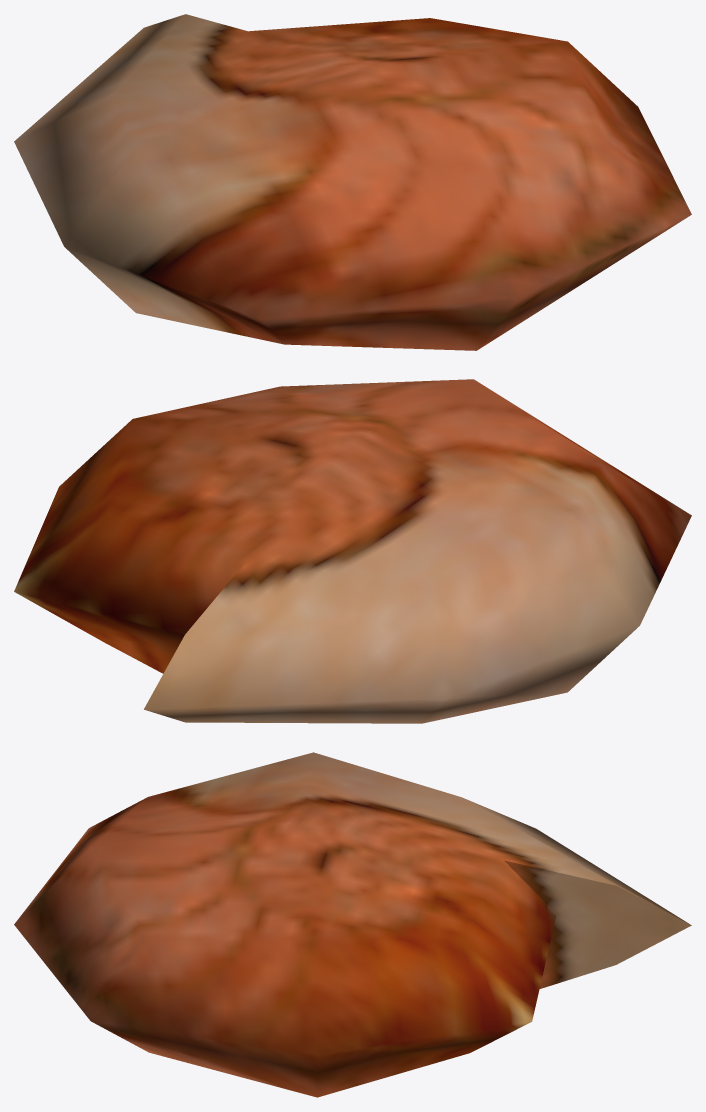
Rendered from Colony_Shell_Art.glb.
3 renders of one model, top to bottom at view 1: azimuth 30°, elevation 25°; view 2: azimuth 150°, elevation 25°; view 3: azimuth 270°, elevation 25°, orthographic. The views are drawn at different scales.
Visible parts, largest first — view 1: Colony_Shell_Art; view 2: Colony_Shell_Art; view 3: Colony_Shell_Art.
Part boxes in pixels (x1=…): Colony_Shell_Art: x1=14, y1=14, x2=691, y2=350; Colony_Shell_Art: x1=14, y1=379, x2=691, y2=723; Colony_Shell_Art: x1=14, y1=752, x2=691, y2=1097.
Size of the model in its own units: 1.97 by 0.7287 by 2.2.
Materials: 1 (1 with a texture image).
